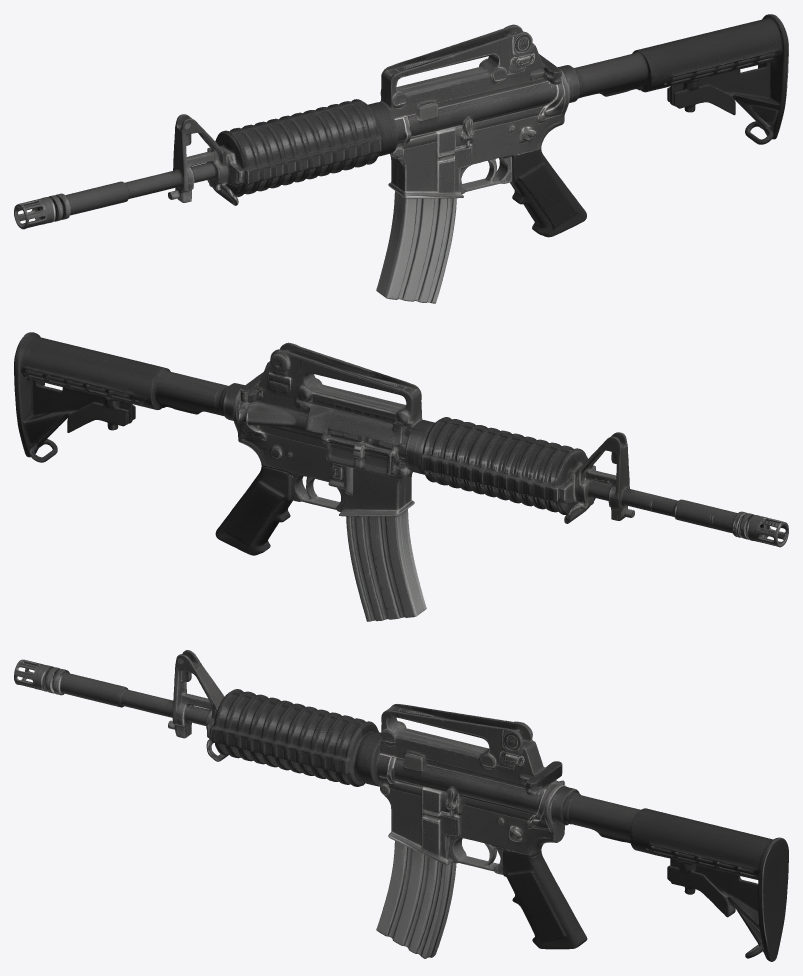
File: Meshy_AI_M4A1_1012115715_texture.glb
The picture shows the model from 3 angles, top to bottom: view 1: azimuth 30°, elevation 25°; view 2: azimuth 150°, elevation 25°; view 3: azimuth 330°, elevation 25°; orthographic projection.
Parts seen in each view (by area): view 1: mesh_node; view 2: mesh_node; view 3: mesh_node.
Part boxes in pixels (left/top/right/bottom): mesh_node: left=14, top=14, right=788, bottom=303; mesh_node: left=14, top=332, right=788, bottom=621; mesh_node: left=14, top=650, right=788, bottom=961.
Size of the model in its own units: 1.9 by 0.6012 by 0.1635.
Materials: 1 (1 with a texture image).
